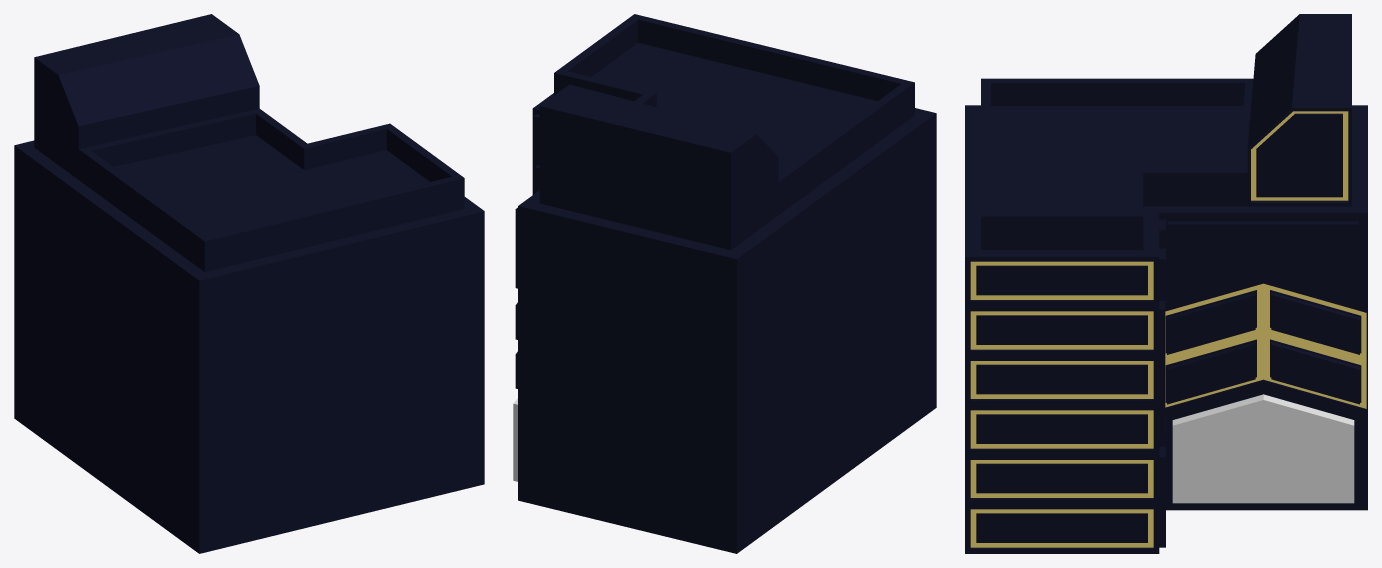
File: building8.fbx
3 renders of one model, left to right at view 1: azimuth 30°, elevation 25°; view 2: azimuth 150°, elevation 25°; view 3: azimuth 270°, elevation 25°, orthographic. The views are drawn at different scales.
Visible parts, largest first — view 1: Cube.021; view 2: Cube.021; view 3: Cube.021.
Boxes of the visible parts, left/top/right/bottom form: Cube.021: left=14, top=14, right=484, bottom=553; Cube.021: left=513, top=14, right=936, bottom=553; Cube.021: left=965, top=14, right=1367, bottom=553.
Bounding box in the file's own units: 1824 × 2220 × 2050.
